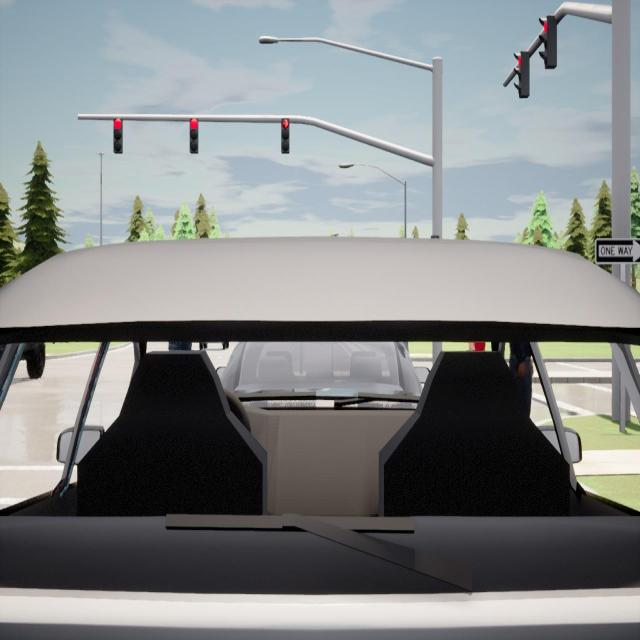Traffic_Signs: (595, 240, 640, 261)
Vehicle: (1, 238, 640, 640), (218, 343, 427, 406)
traffic_light: (540, 14, 558, 70), (514, 52, 531, 100), (114, 118, 122, 155), (190, 119, 198, 155), (282, 118, 289, 154)
